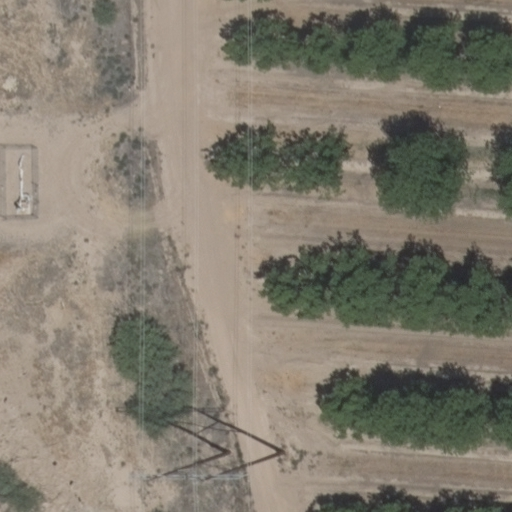TT: (155, 404, 289, 460)
